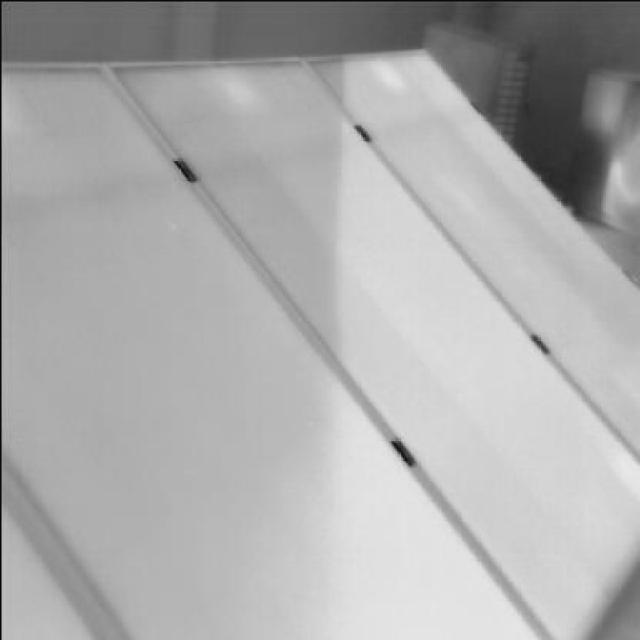hotspot: (363, 52, 406, 92)
